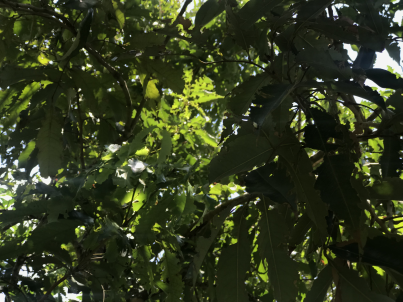weevil: (249, 119, 262, 131)
